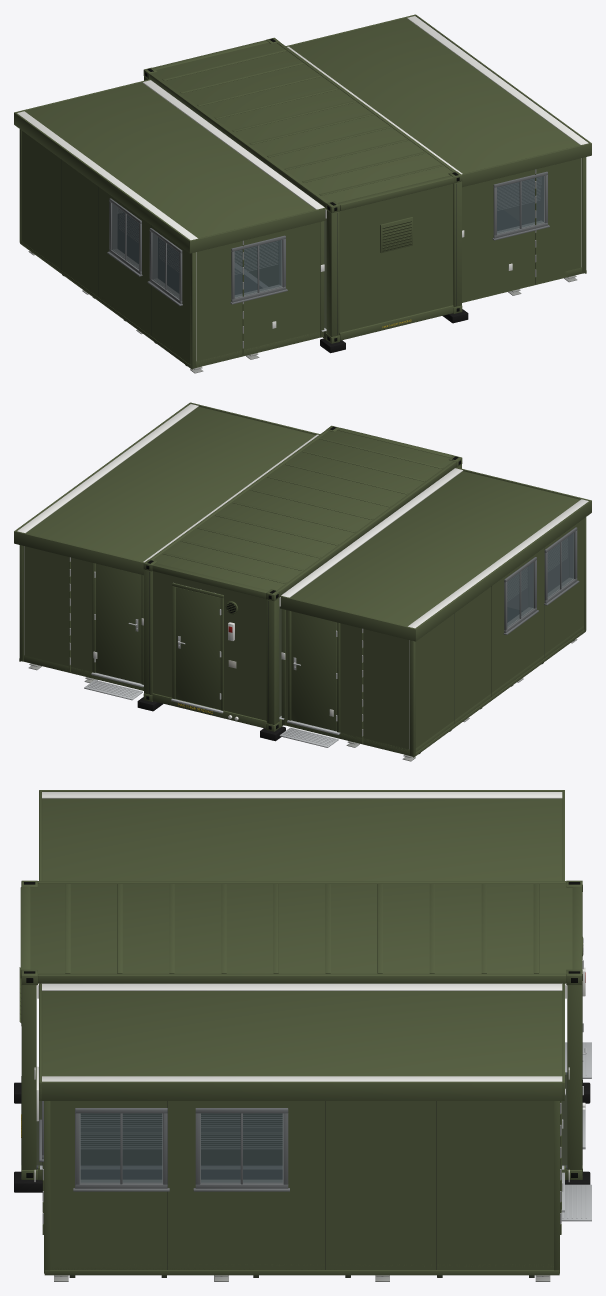
File: hercon-deployed.glb
3 views of the same model, one above another, from view 1: azimuth 30°, elevation 25°; view 2: azimuth 150°, elevation 25°; view 3: azimuth 270°, elevation 25° (orthographic). The views are drawn at different scales.
Visible parts, largest first — view 1: HERCON_expansion_L, HERCON_core, HERCON_expansion_R; view 2: HERCON_expansion_L, HERCON_core, HERCON_expansion_R; view 3: HERCON_expansion_R, HERCON_core, HERCON_expansion_L, HERCON_interior.
Part boxes in pixels (bbox=[...]): HERCON_expansion_L: bbox=[14, 79, 325, 373]; HERCON_core: bbox=[143, 37, 468, 353]; HERCON_expansion_R: bbox=[286, 14, 591, 302]; HERCON_expansion_L: bbox=[279, 467, 591, 761]; HERCON_core: bbox=[137, 425, 462, 741]; HERCON_expansion_R: bbox=[14, 402, 319, 700]; HERCON_expansion_R: bbox=[39, 983, 591, 1281]; HERCON_core: bbox=[14, 880, 590, 1192]; HERCON_expansion_L: bbox=[39, 790, 591, 1078]; HERCON_interior: bbox=[34, 983, 569, 1182].
Bounding box in the file's own units: 7.48 × 2.56 × 6.24.
